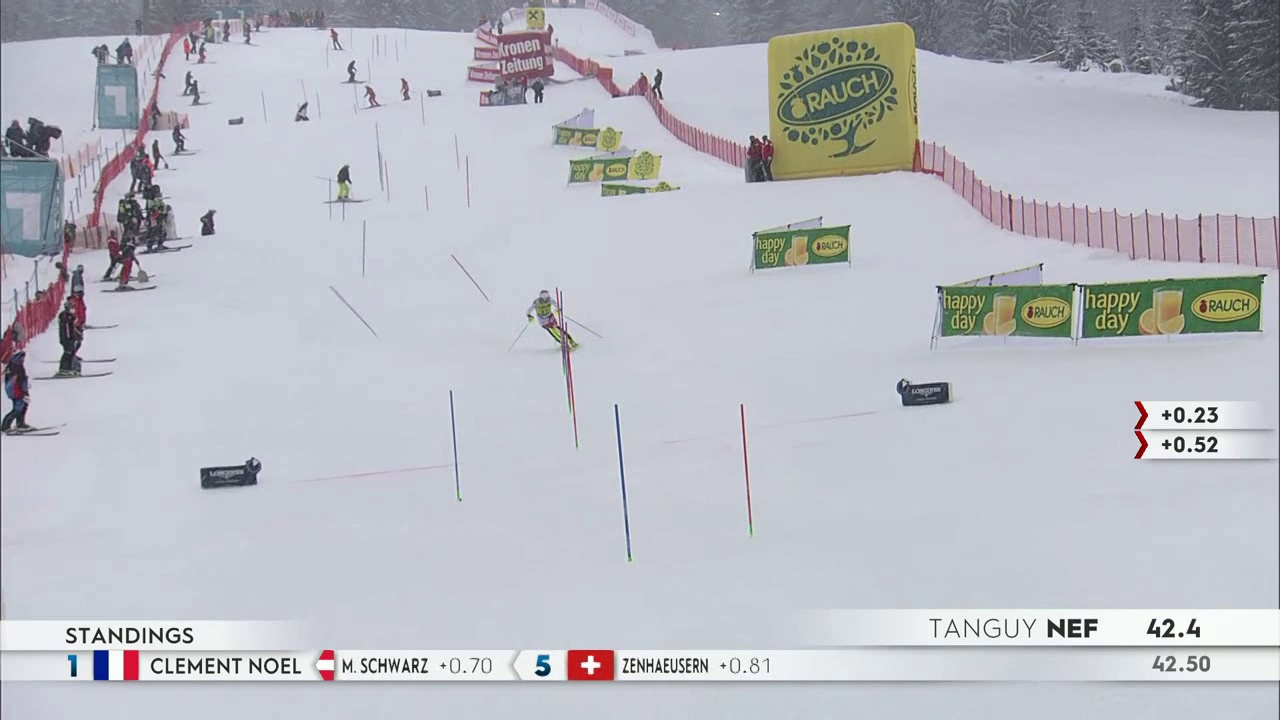kronenzeitung: (499, 40, 551, 80)
rauch: (780, 52, 900, 161), (1186, 284, 1260, 324), (1020, 293, 1072, 333), (808, 234, 849, 262)
